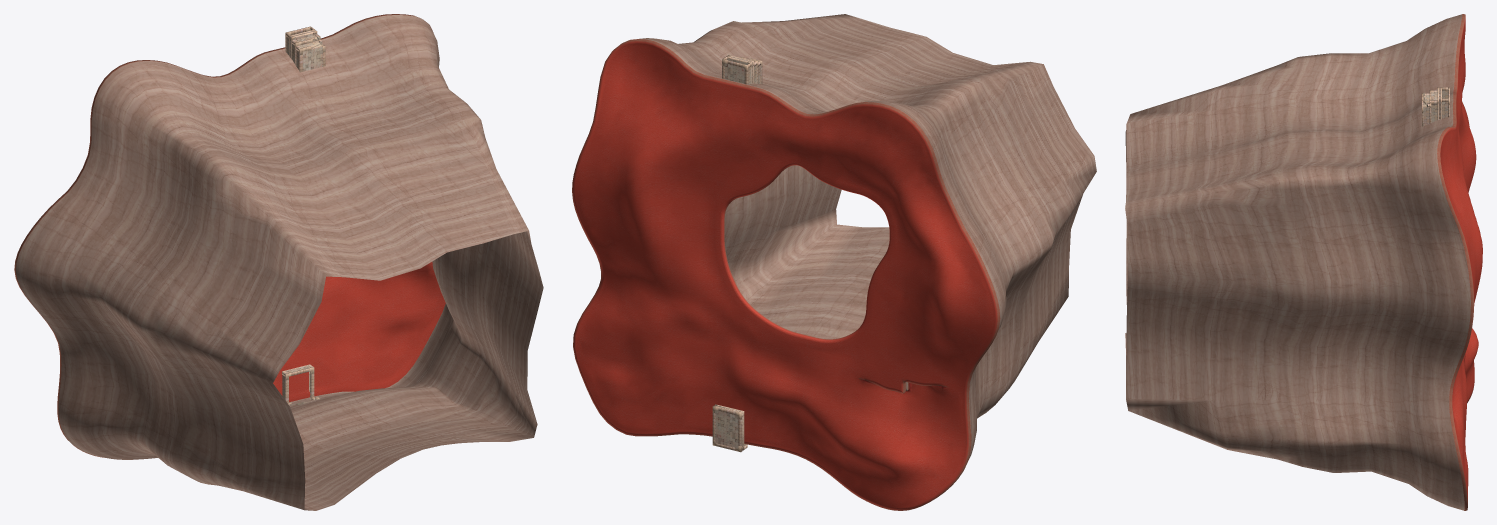
The model's file is Ground001.obj.
The picture shows the model from 3 angles, left to right: view 1: azimuth 30°, elevation 25°; view 2: azimuth 150°, elevation 25°; view 3: azimuth 270°, elevation 25°; orthographic projection. The views are drawn at different scales.
Parts seen in each view (by area): view 1: CombineGroup1__WallRockSand00_rep, CombineGroup1__GroundSandRed00_rep, CombineGroup1__WallRockEdge00_rep, CombineGroup1__EdgeStoneBlock02; view 2: CombineGroup1__GroundSandRed00_rep, CombineGroup1__WallRockSand00_rep, CombineGroup1__WallRockEdge00_rep, CombineGroup1__FloorStoneBase02, CombineGroup1__EdgeStoneBlock02; view 3: CombineGroup1__WallRockSand00_rep, CombineGroup1__GroundSandRed00_rep, CombineGroup1__WallRockEdge00_rep, CombineGroup1__WallBrickBase04.
Part boxes in pixels (left/top/right/bottom): CombineGroup1__WallRockSand00_rep: left=16, top=15, right=543, bottom=510; CombineGroup1__GroundSandRed00_rep: left=273, top=262, right=445, bottom=402; CombineGroup1__WallRockEdge00_rep: left=14, top=14, right=433, bottom=457; CombineGroup1__EdgeStoneBlock02: left=285, top=27, right=325, bottom=403; CombineGroup1__GroundSandRed00_rep: left=574, top=43, right=995, bottom=507; CombineGroup1__WallRockSand00_rep: left=639, top=14, right=1096, bottom=460; CombineGroup1__WallRockEdge00_rep: left=572, top=39, right=1000, bottom=510; CombineGroup1__FloorStoneBase02: left=715, top=58, right=748, bottom=448; CombineGroup1__EdgeStoneBlock02: left=712, top=56, right=762, bottom=450; CombineGroup1__WallRockSand00_rep: left=1125, top=14, right=1470, bottom=510; CombineGroup1__GroundSandRed00_rep: left=1440, top=20, right=1482, bottom=498; CombineGroup1__WallRockEdge00_rep: left=1437, top=14, right=1474, bottom=510; CombineGroup1__WallBrickBase04: left=1423, top=90, right=1448, bottom=125.
Size of the model in its own units: 15112 by 13420 by 11480.
Materials: 12 (11 with a texture image).
